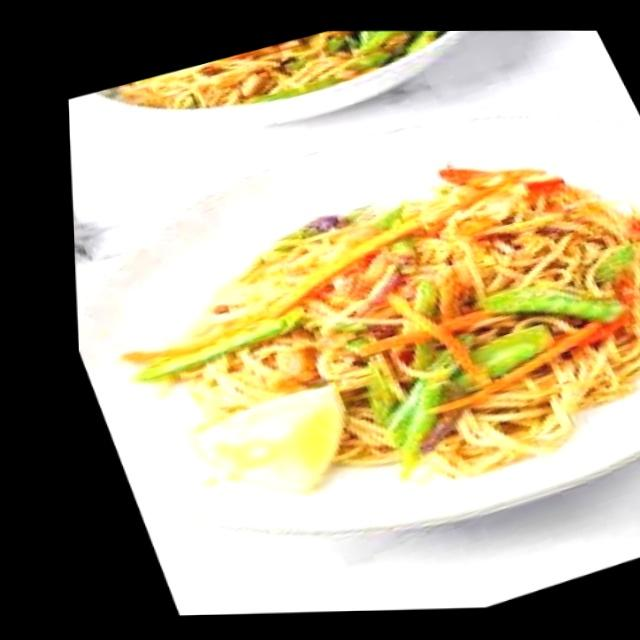pancit bihon: (166, 165, 639, 468)
